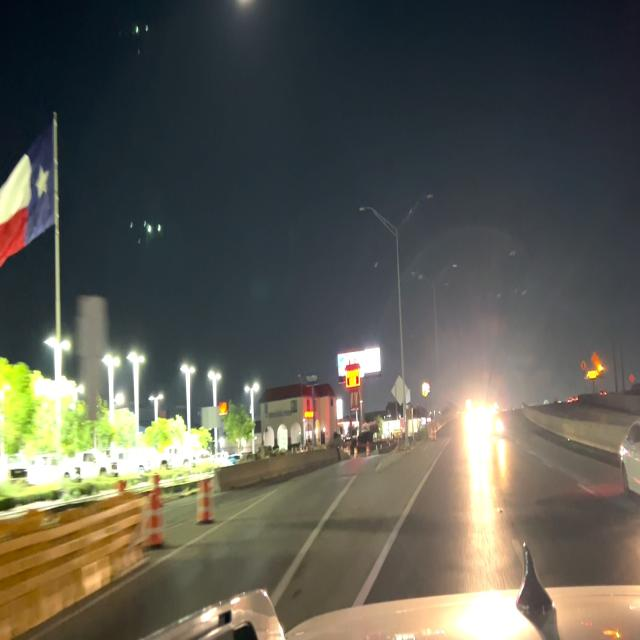back-of-sign: (390, 371, 410, 409)
